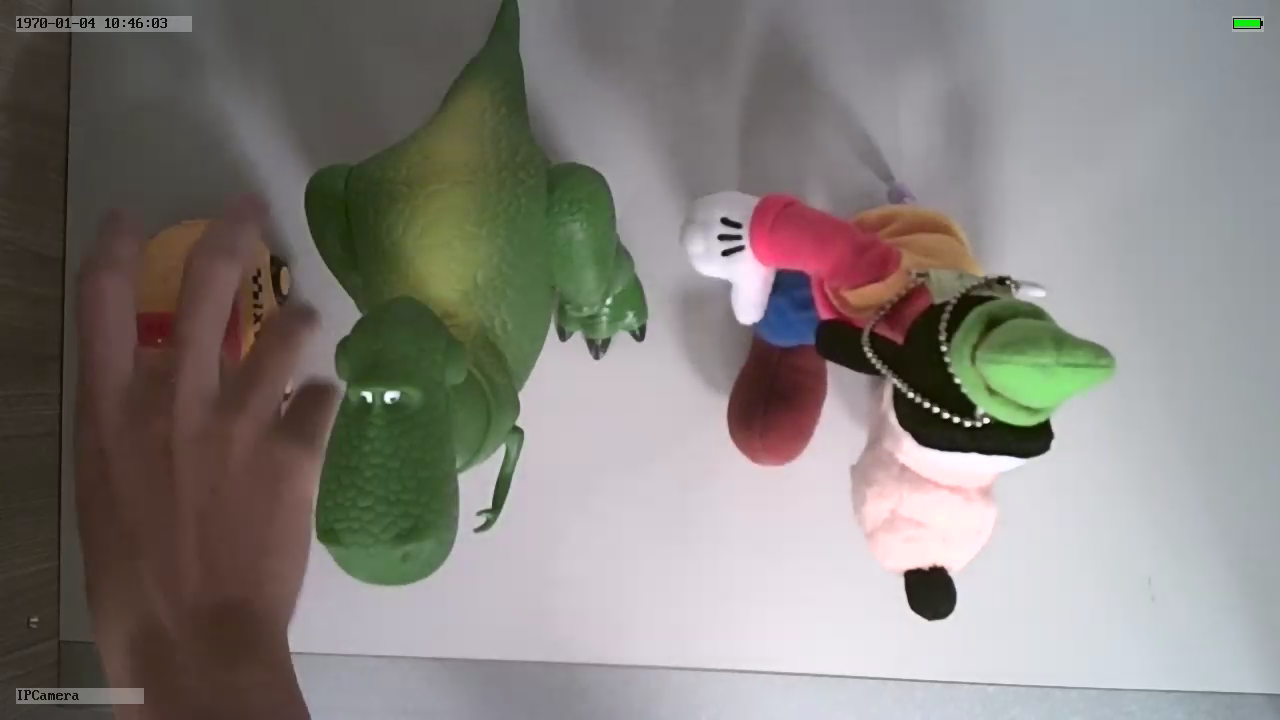goofy: (661, 174, 1118, 633)
